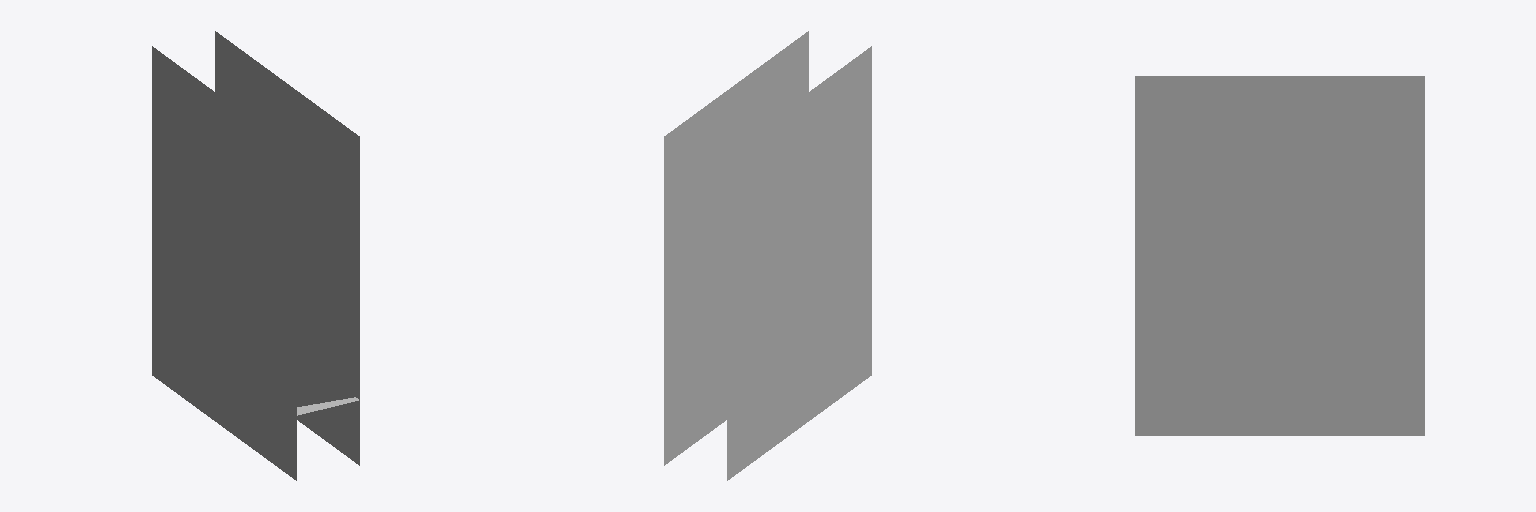
File: stairs-down.obj
The picture shows the model from 3 angles: view 1: azimuth 30°, elevation 25°; view 2: azimuth 150°, elevation 25°; view 3: azimuth 270°, elevation 25°; orthographic projection.
Parts seen in each view (by area): view 1: Cube; view 2: Cube; view 3: Cube.
Part boxes in pixels (left/top/right/bottom): Cube: left=152, top=31, right=359, bottom=480; Cube: left=664, top=31, right=871, bottom=480; Cube: left=1135, top=76, right=1424, bottom=435.
Bounding box in the file's own units: 2 × 10 × 8.